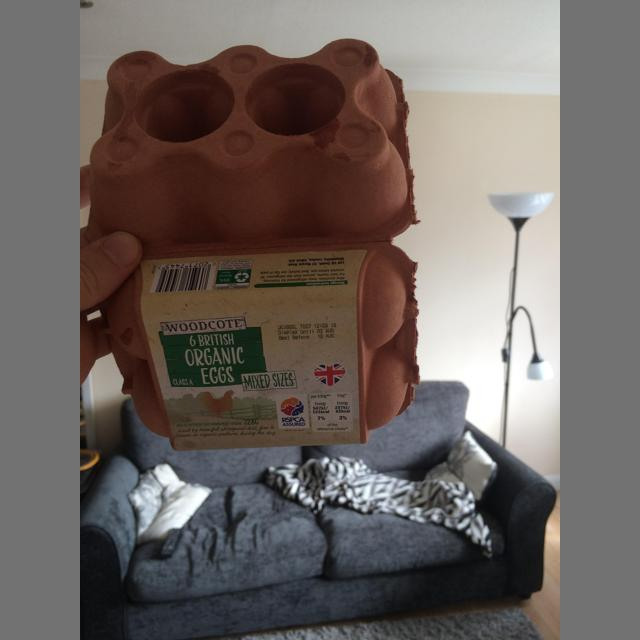litter: (86, 38, 419, 451)
